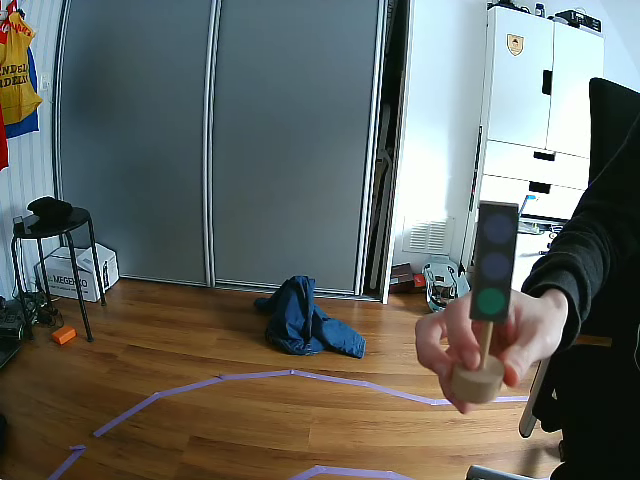groenlicht: (472, 205, 519, 323)
